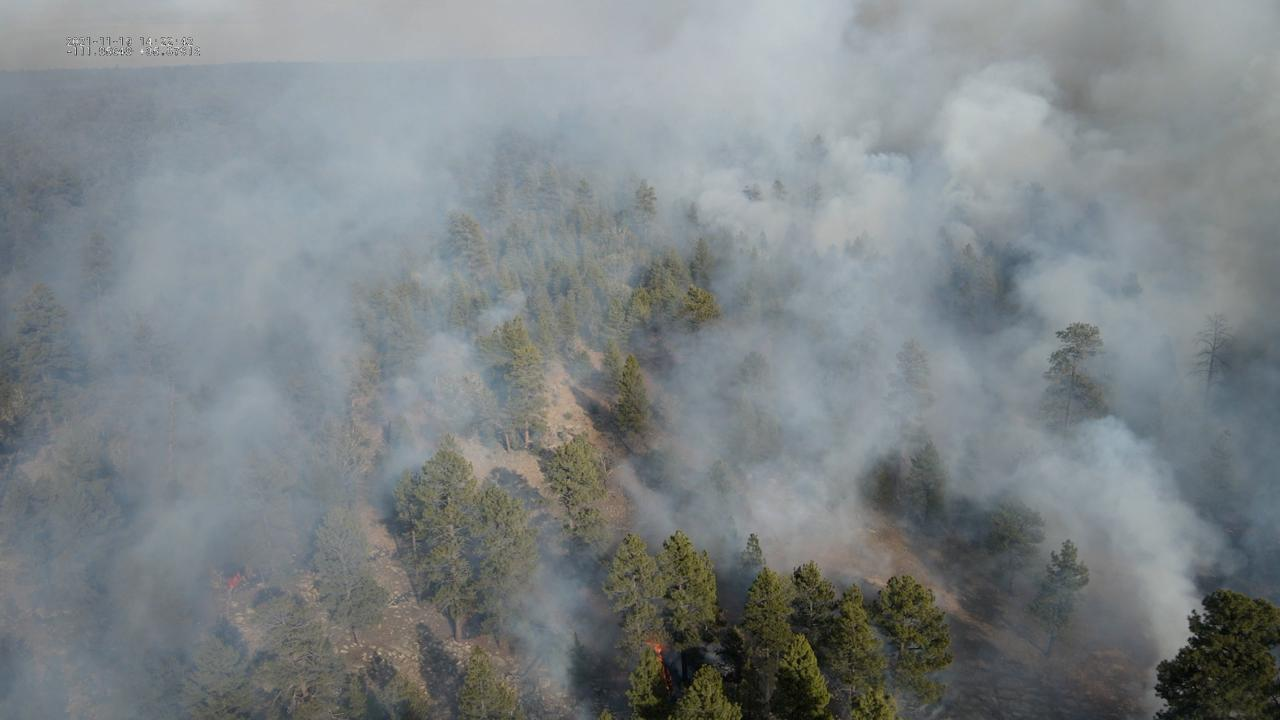fire: (639, 636, 675, 691), (225, 571, 242, 592)
smoke: (0, 0, 1280, 720)
